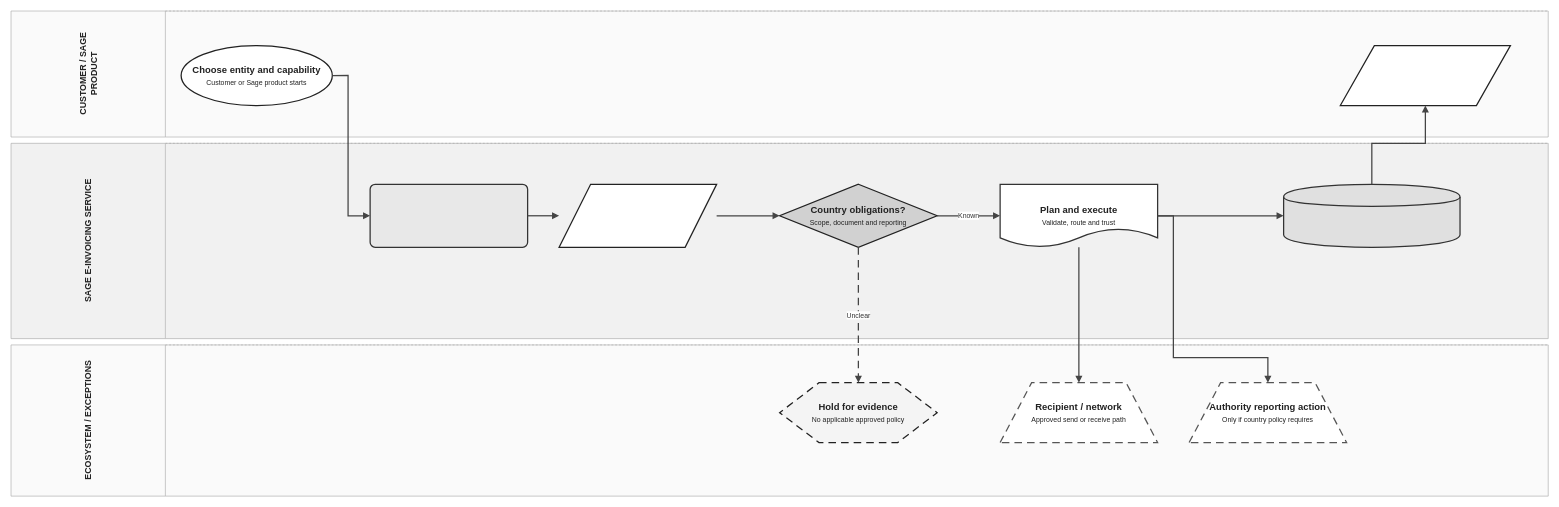
Some shapes in this 1559 by 507 pixel diagram are drawn without their labels. The centre of each missing label's shape, as x and y in pixels:
"Accept business intent Invoice or inbound event identity" belongs at (x=637, y=215).
"Establish readiness Entity, actor and authority" belongs at (x=448, y=215).
"Preserve and interpret Raw evidence and lifecycle view" belongs at (x=1371, y=215).
"See evidence-based outcome Status, history and next action" belongs at (x=1425, y=75).
